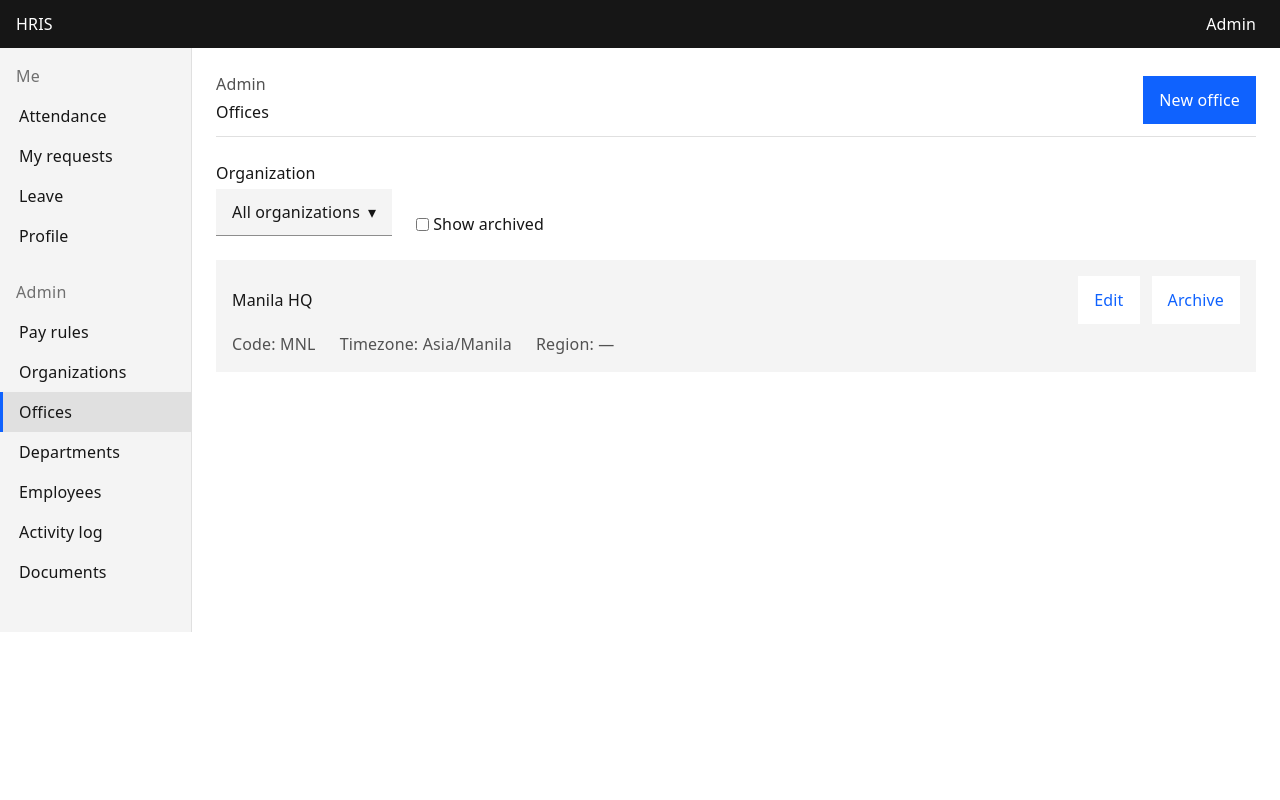
it: /admin/offices — list › hides archived offices until the show-archived toggle is on, badging them when shown
Expected: the text "Manila HQ" is shown, [232,288,313,312]
Expected: the text "Cebu Annex" is not shown
Step 1. Click the checkbox labelled "Show archived" → coordinates (423, 224), box [416,218,429,230]
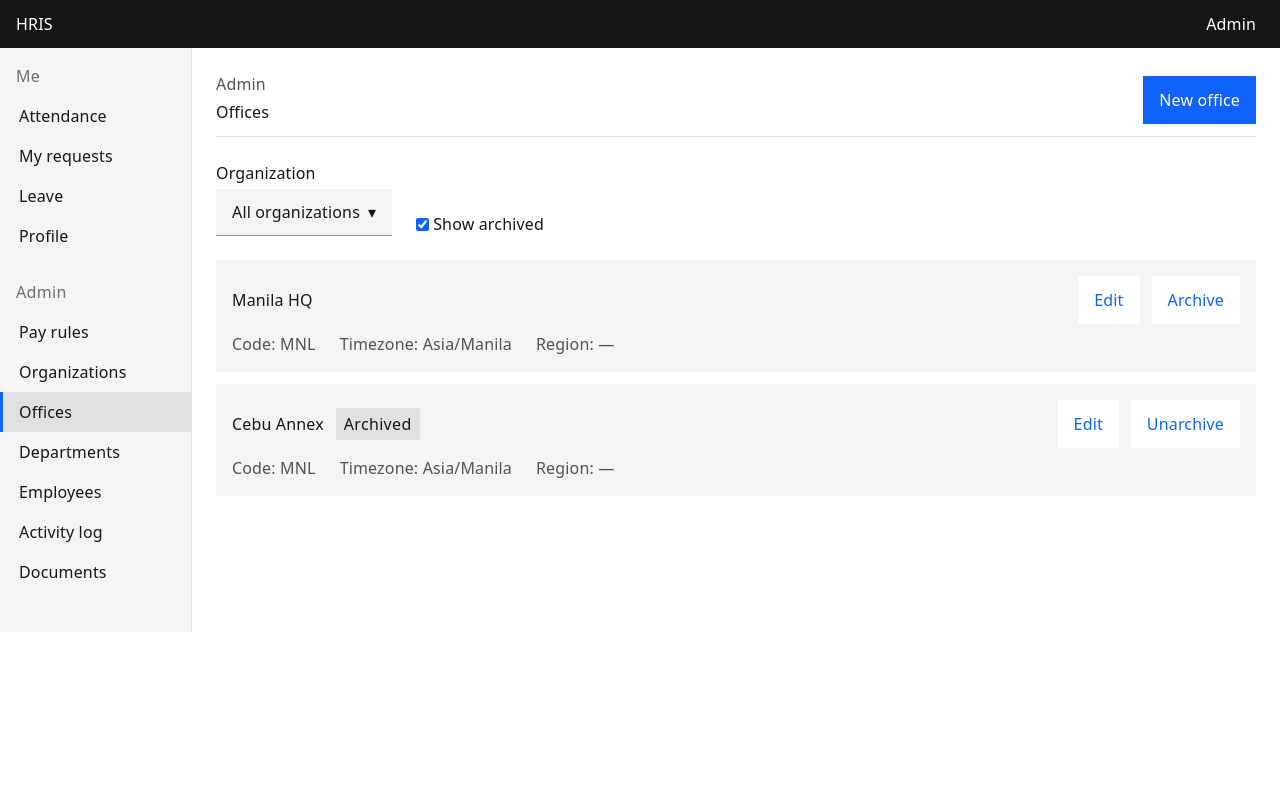
Expected: the text "Cebu Annex" is shown, [232,412,324,436]
Expected: the text "Archived" is shown, [336,408,420,440]
